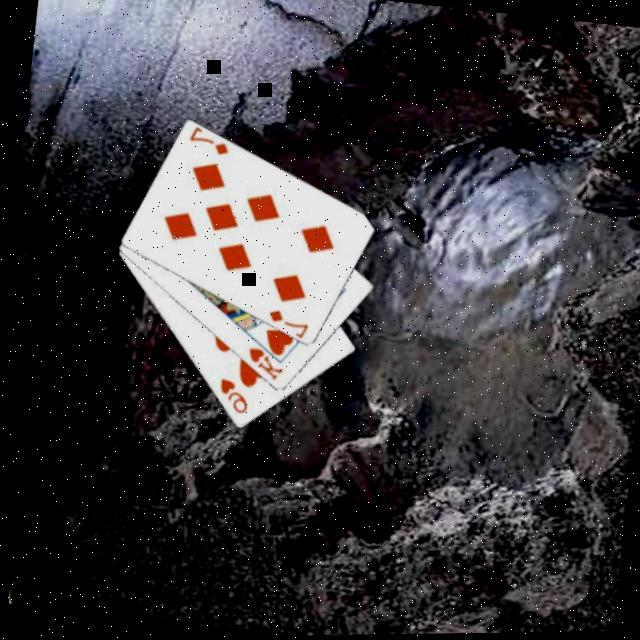7D: (181, 122, 231, 160), (260, 304, 310, 341)
9H: (209, 373, 251, 418)
KH: (239, 342, 285, 384)
